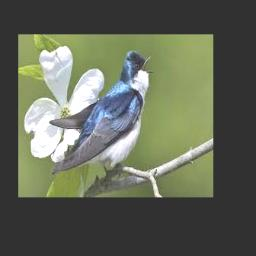Swallow: (50, 50, 154, 178)
